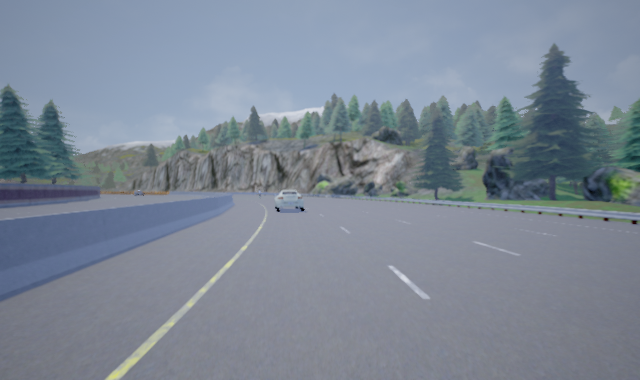vehicle: (273, 189, 305, 212)
